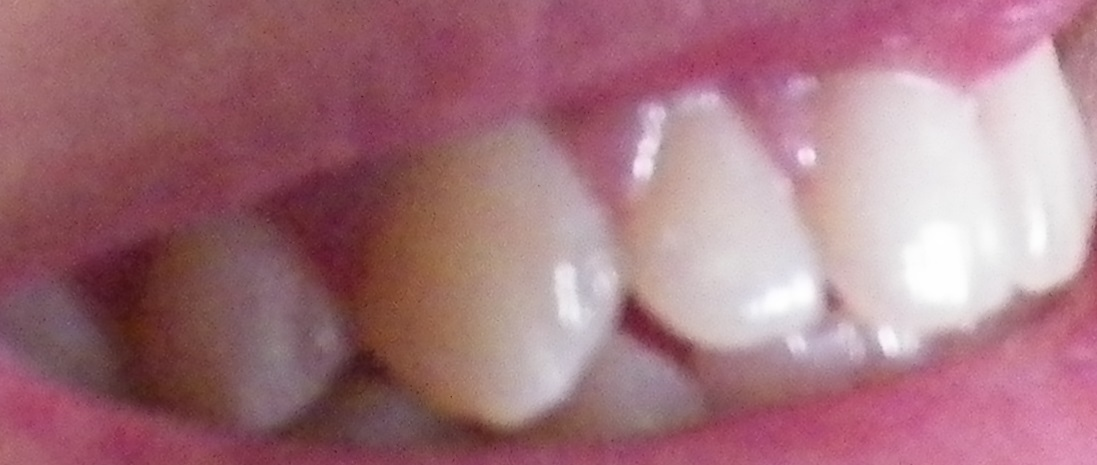boca: (17, 41, 1089, 437)
